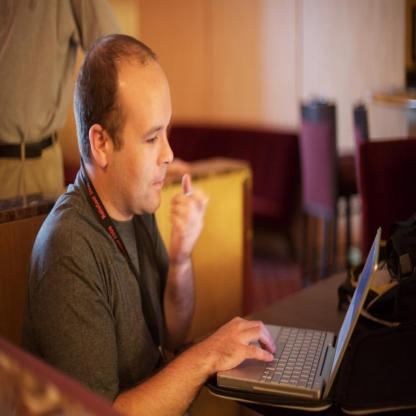board: (217, 224, 383, 398)
